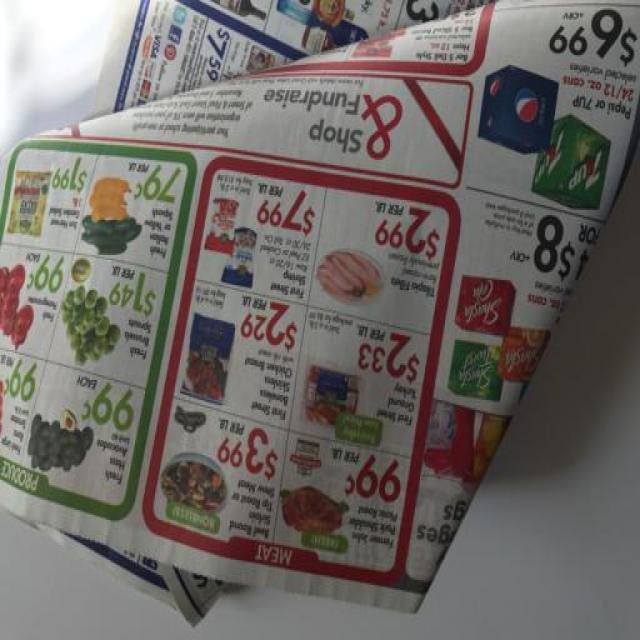paper: (4, 4, 640, 640)
